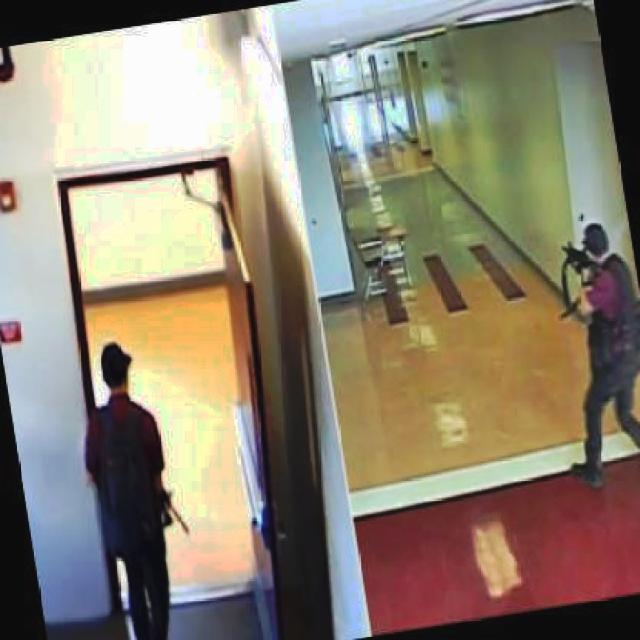Gun: (557, 237, 594, 286)
